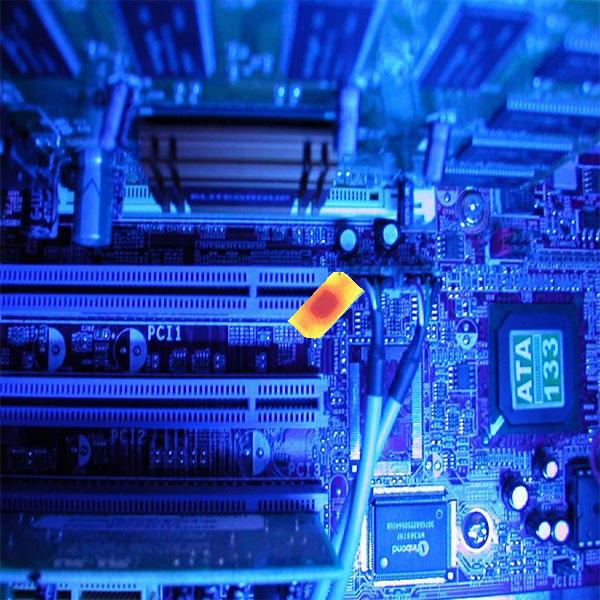componente_T: (286, 270, 367, 339)
